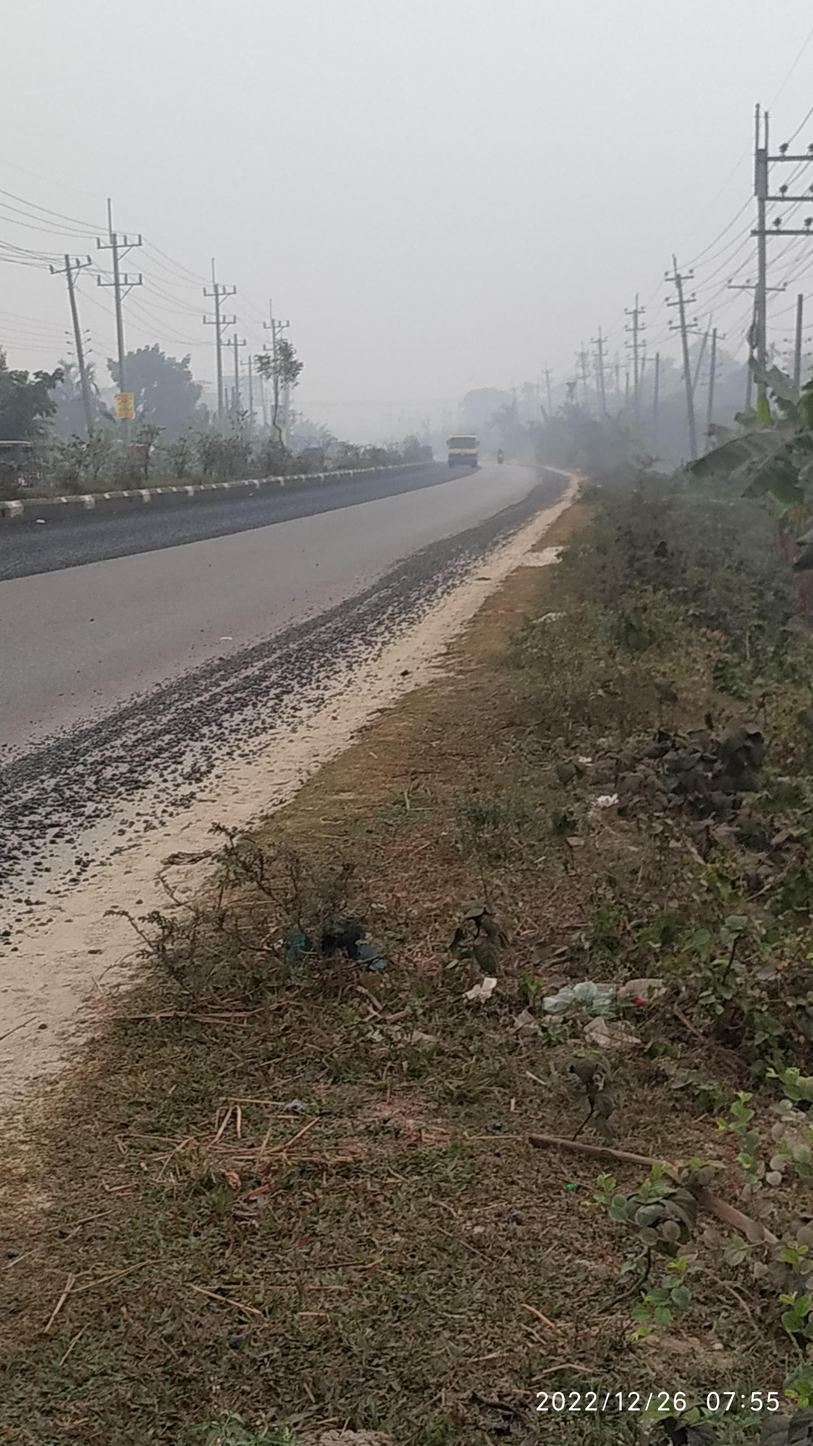Bike: (492, 432, 524, 483)
Truck: (435, 422, 491, 483)
